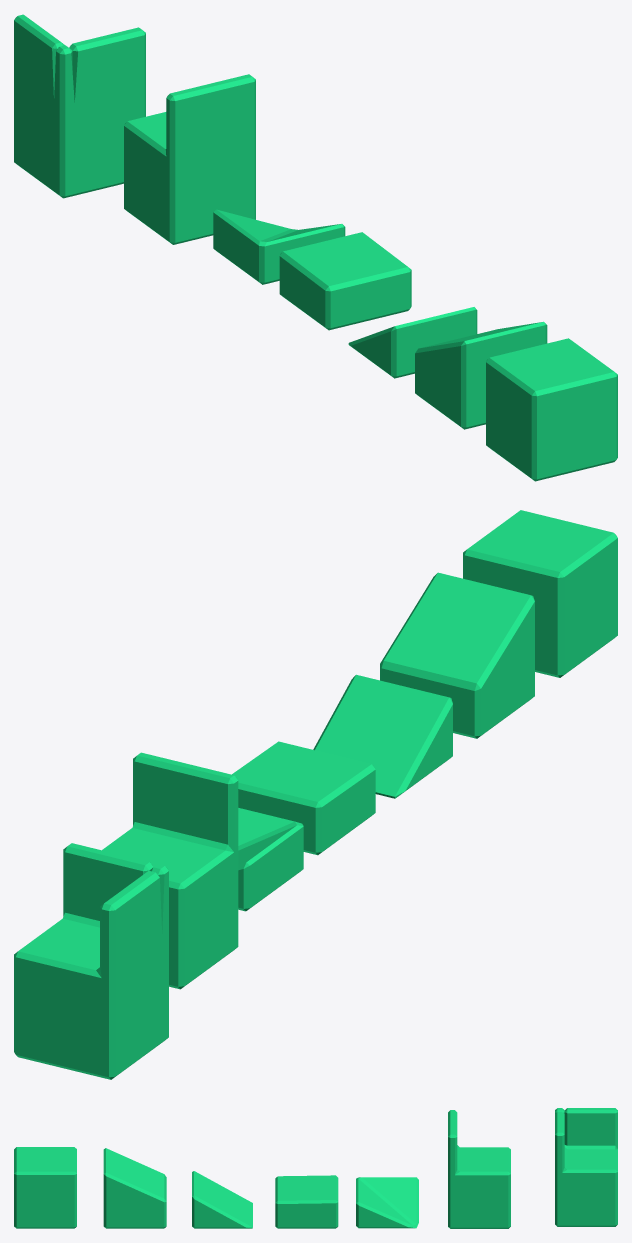
Rendered from world-blocks-v1.glb.
3 views of the same model, one above another, from view 1: azimuth 30°, elevation 25°; view 2: azimuth 150°, elevation 25°; view 3: azimuth 270°, elevation 25° (orthographic). The views are drawn at different scales.
Parts seen in each view (by area): view 1: BlockWallCorner, BlockWall, Block, BlockShort, RampTop, RanpLowerCorner, RampBottom; view 2: BlockWallCorner, BlockWall, RampTop, Block, RampBottom, BlockShort, RanpLowerCorner; view 3: BlockWallCorner, BlockWall, Block, RampTop, BlockShort, RanpLowerCorner, RampBottom.
Boxes of the visible parts, x1,y1,x2,y2 form: BlockWallCorner: (14,14,145,198); BlockWall: (124,74,255,244); Block: (486,338,617,481); BlockShort: (279,232,411,330); RampTop: (415,321,547,429); RanpLowerCorner: (213,209,345,284); RampBottom: (348,307,477,378); BlockWallCorner: (14,843,168,1079); BlockWall: (102,752,238,989); RampTop: (380,572,534,738); Block: (463,510,617,677); RampBottom: (313,674,452,798); BlockShort: (232,741,375,855); RanpLowerCorner: (238,808,303,911); BlockWallCorner: (555,1108,617,1226); BlockWall: (448,1110,510,1228); Block: (14,1147,76,1228); RampTop: (103,1148,166,1228); BlockShort: (275,1175,338,1228); RanpLowerCorner: (356,1177,418,1228); RampBottom: (192,1171,252,1228).
Size of what is drawn, in the model's own units: 3.04 by 3.5 by 19.15.
